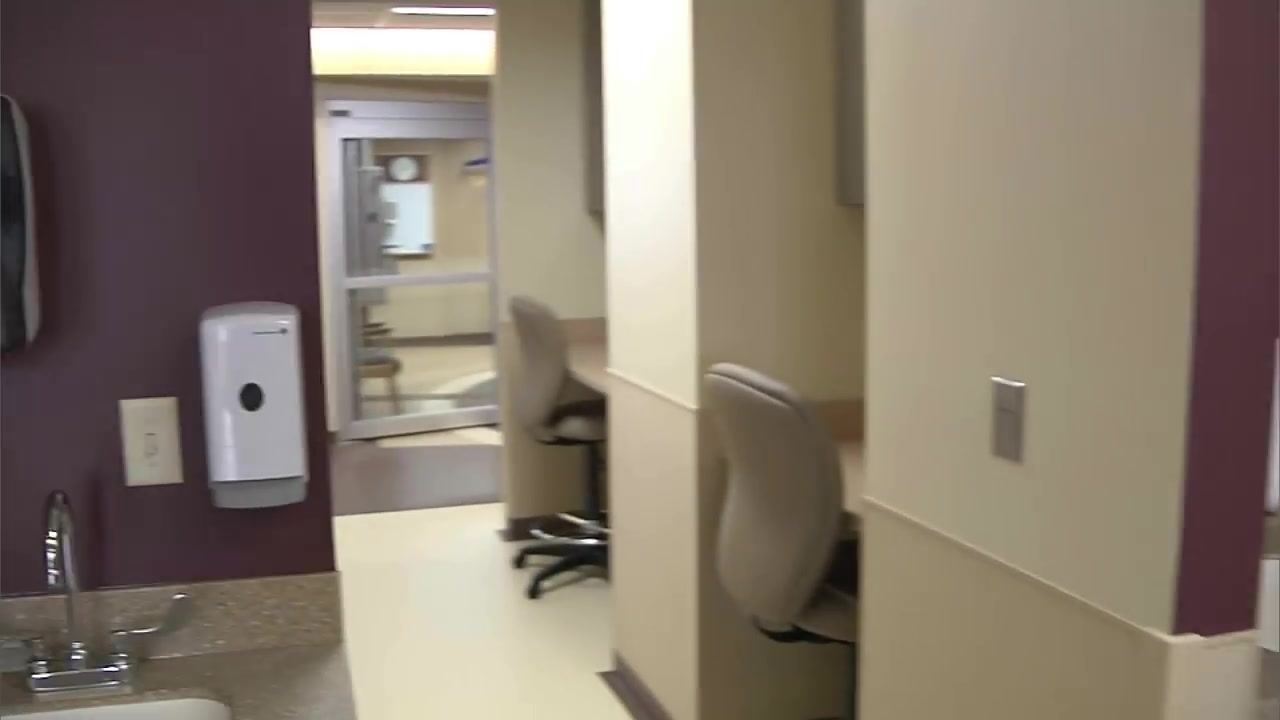chair: (703, 360, 856, 646), (508, 296, 609, 599), (355, 322, 404, 421)
countertop: (1, 626, 344, 720), (834, 441, 865, 531), (562, 341, 607, 395)
dispenser: (198, 303, 308, 508), (1, 93, 42, 356)
faucet: (1, 490, 192, 693)
light_switch: (119, 396, 183, 485)
sink: (1, 697, 232, 720)
